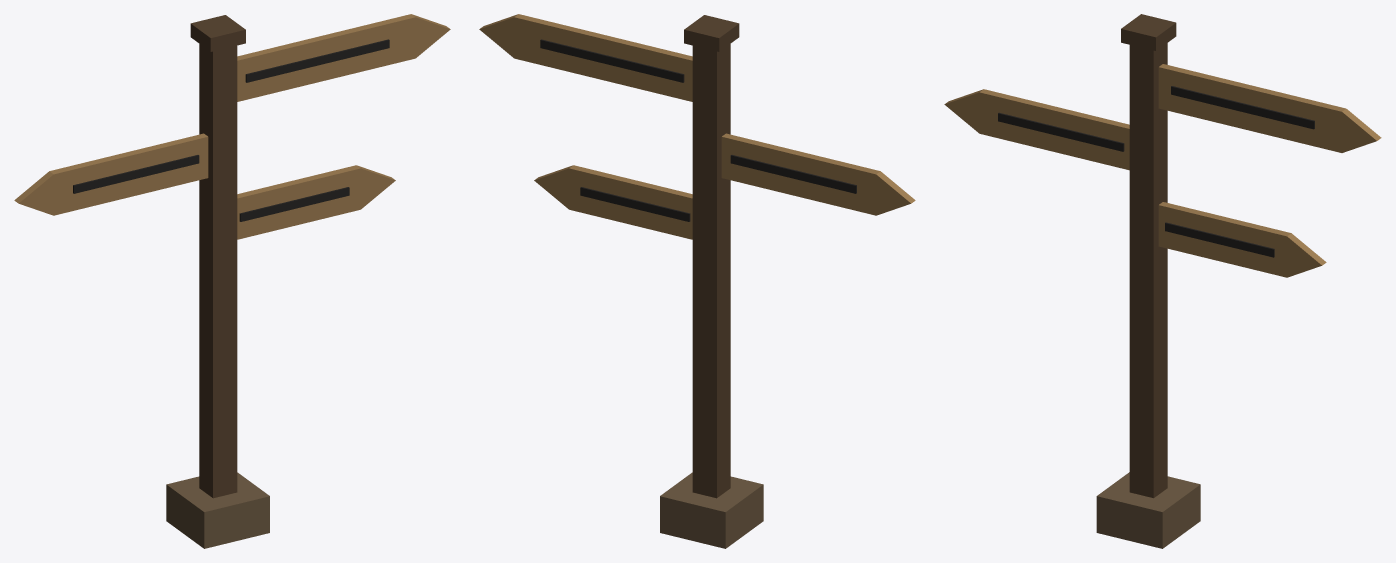
Rendered from signpost.glb.
The picture shows the model from 3 angles, left to right: view 1: azimuth 30°, elevation 25°; view 2: azimuth 150°, elevation 25°; view 3: azimuth 330°, elevation 25°; orthographic projection.
Visible parts, largest first — view 1: signpost; view 2: signpost; view 3: signpost.
Part boxes in pixels (x1,y1,x2,y2): signpost: (14, 14, 450, 548); signpost: (479, 14, 915, 548); signpost: (944, 14, 1381, 548).
Size of the model in its own units: 1.97 by 2.18 by 0.3.
